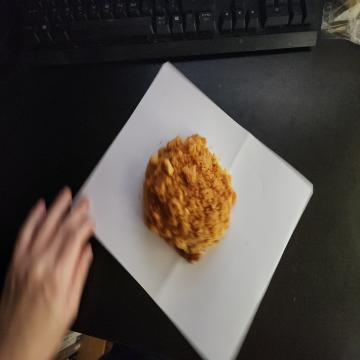soboru_bread: (144, 133, 236, 265)
